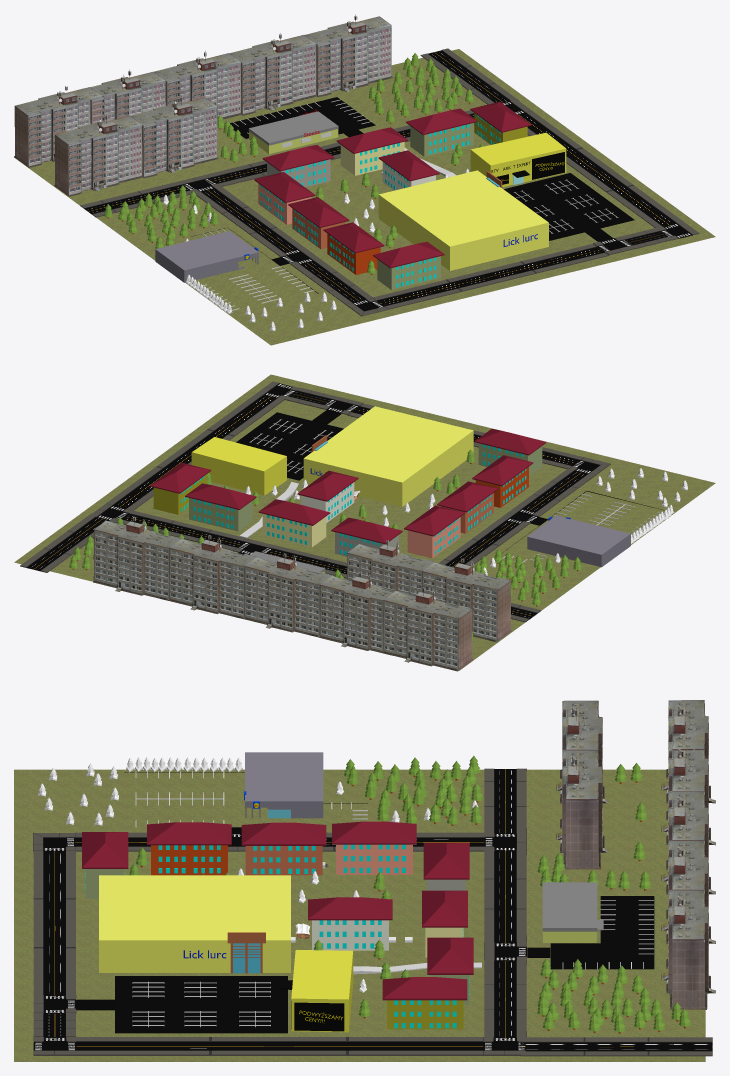
Rendered from Parking_map.glb.
The picture shows the model from 3 angles, top to bottom: view 1: azimuth 30°, elevation 25°; view 2: azimuth 150°, elevation 25°; view 3: azimuth 270°, elevation 25°; orthographic projection. The views are drawn at different scales.
Parts seen in each view (by area): view 1: Plane_col, leclerc_col, Block of flats.005_col, Block of flats.006_col, Block of flats_col_col, Block of flats.001_col, parkingl_col, Block of flats.004_col, Road.001_col, Cube.003, Block of flats.002_col, Road.002_col (+19 smaller); view 2: Plane_col, leclerc_col, Block of flats.004_col, Block of flats.006_col, Block of flats.002_col, Block of flats_col_col, Block of flats.003_col, Block of flats.005_col, Cube.003, ledl_col, Road.002_col, parkingl_col (+19 smaller); view 3: Plane_col, leclerc_col, parkingl_col, Road.002_col, Road.001_col, parkingB_col, ledl_col, Cube.003, Block of flats.001_col, Block of flats.006_col, blok7_col, blok8_col (+26 smaller).
Boxes of the visible parts, x1,y1,x2,y2 form: Plane_col: [14, 49, 715, 345]; leclerc_col: [378, 170, 548, 270]; Block of flats.005_col: [54, 116, 142, 196]; Block of flats.006_col: [305, 16, 392, 97]; Block of flats_col_col: [230, 35, 316, 115]; Block of flats.001_col: [131, 97, 218, 178]; parkingl_col: [504, 173, 634, 240]; Block of flats.004_col: [14, 87, 102, 167]; Road.001_col: [372, 243, 609, 309]; Cube.003: [470, 132, 566, 186]; Block of flats.002_col: [154, 53, 241, 119]; Road.002_col: [518, 111, 683, 227]; Plane_col: [14, 374, 715, 670]; leclerc_col: [303, 406, 473, 506]; Block of flats.004_col: [382, 591, 472, 671]; Block of flats.006_col: [93, 520, 182, 600]; Block of flats.002_col: [243, 557, 333, 637]; Block of flats_col_col: [168, 539, 258, 619]; Block of flats.003_col: [319, 576, 408, 655]; Block of flats.005_col: [422, 562, 511, 642]; Cube.003: [191, 437, 286, 495]; ledl_col: [527, 515, 630, 567]; Road.002_col: [106, 393, 284, 510]; parkingl_col: [236, 412, 343, 480]; Plane_col: [14, 769, 705, 1061]; leclerc_col: [99, 875, 290, 973]; parkingl_col: [115, 976, 287, 1033]; Road.002_col: [74, 1037, 483, 1055]; Road.001_col: [33, 850, 75, 995]; parkingB_col: [124, 771, 654, 969]; ledl_col: [244, 752, 323, 818]; Cube.003: [279, 950, 353, 1032]; Block of flats.001_col: [556, 750, 608, 869]; Block of flats.006_col: [661, 890, 715, 1009]; blok7_col: [241, 822, 326, 875]; blok8_col: [147, 822, 231, 875].
Bounding box in the file's own units: 181 × 27.74 × 183.
Materials: 60 (5 with a texture image).
